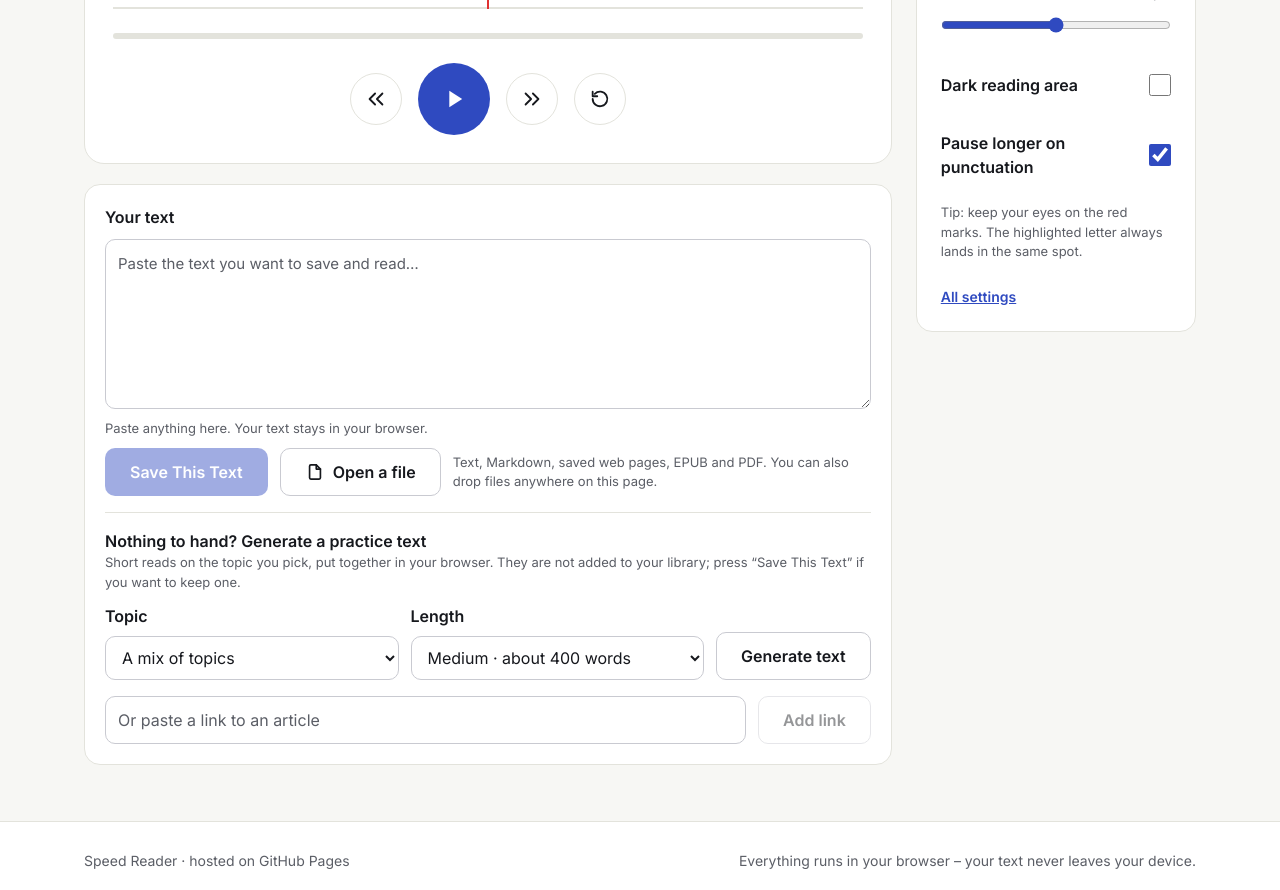
adding text › says why a link could not be added
(page scrolled)
Type "example.com/gone" into the field labelled "link to an article" at (426, 720), box [105,696,746,744]
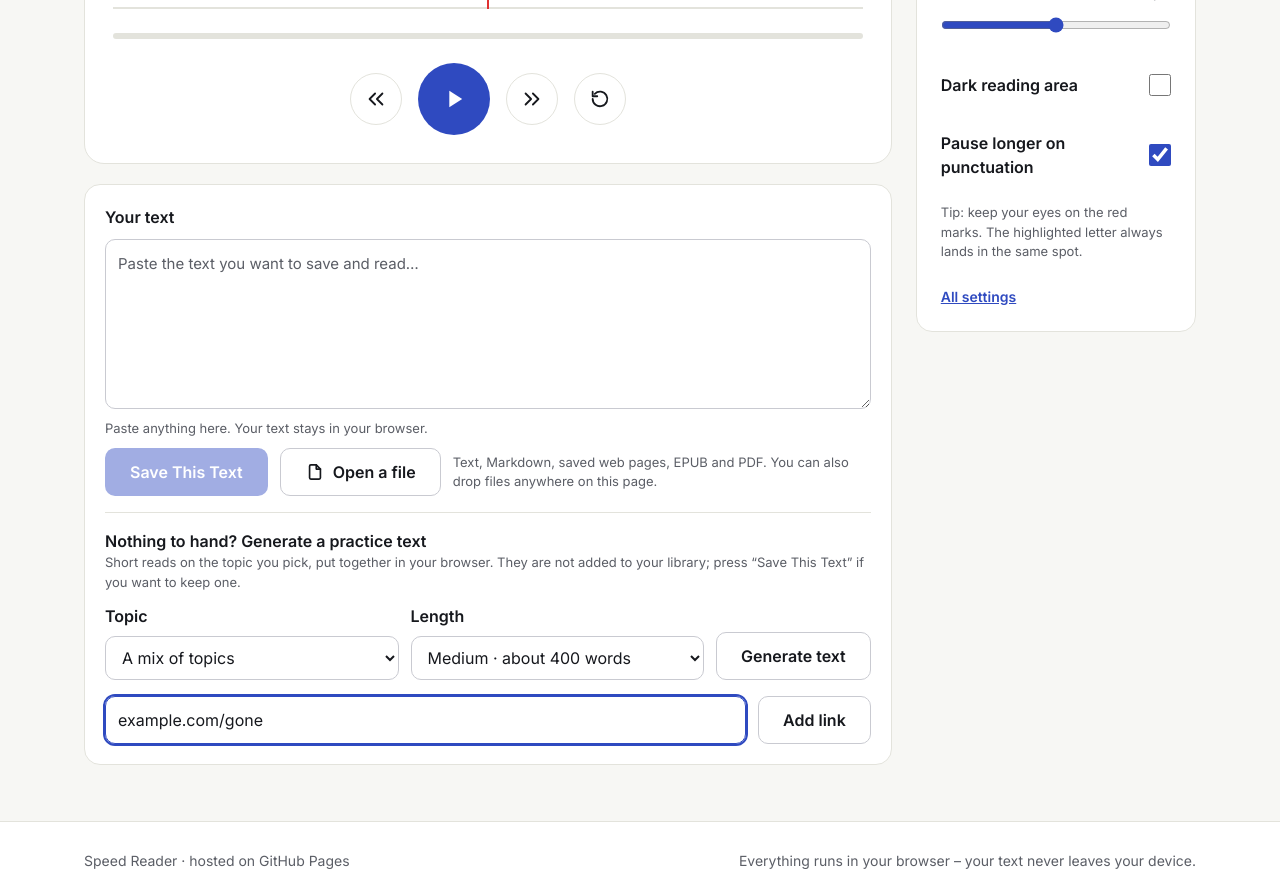
Click the button "Add link" at (814, 720), box [758,696,871,744]
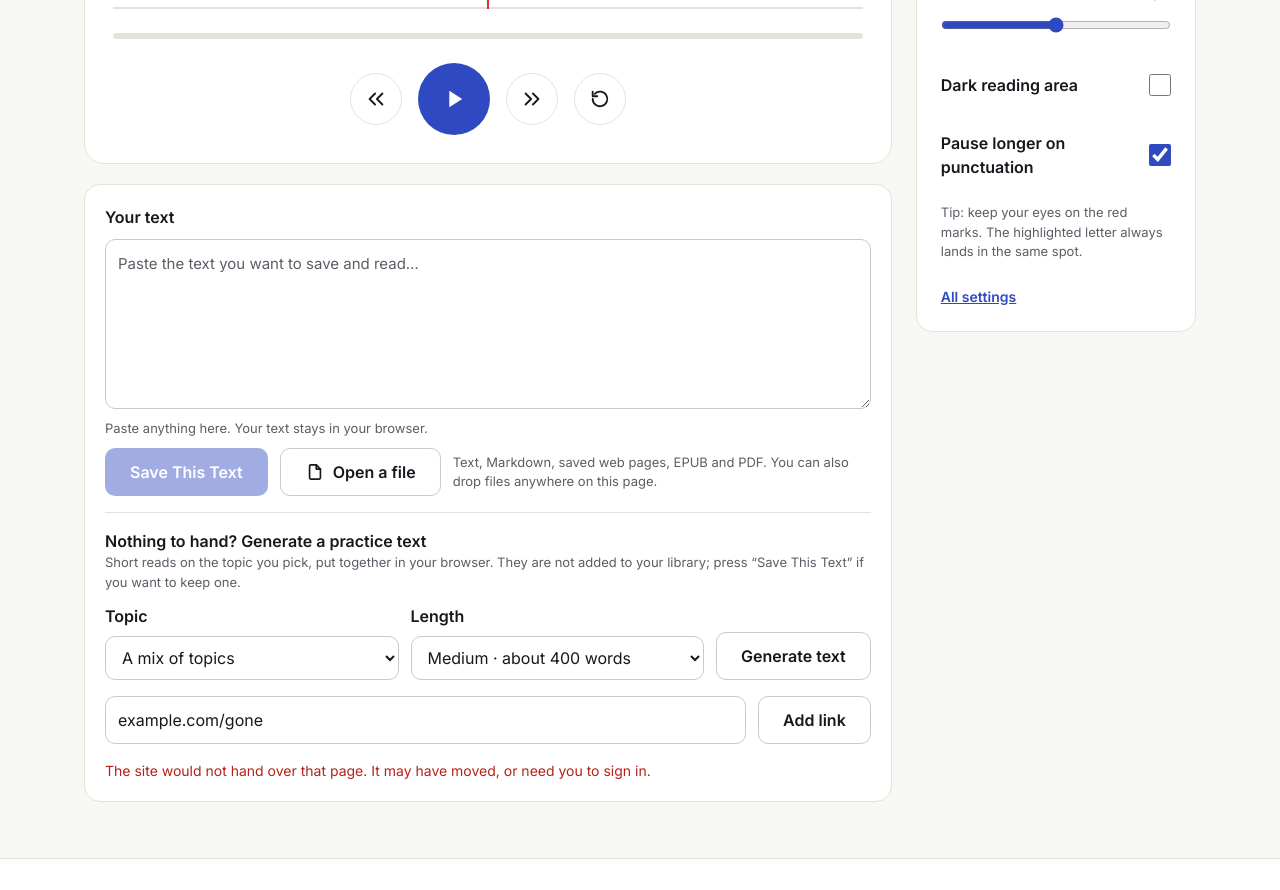
Now the message shows "would not hand over that page", box [105,762,651,779]
